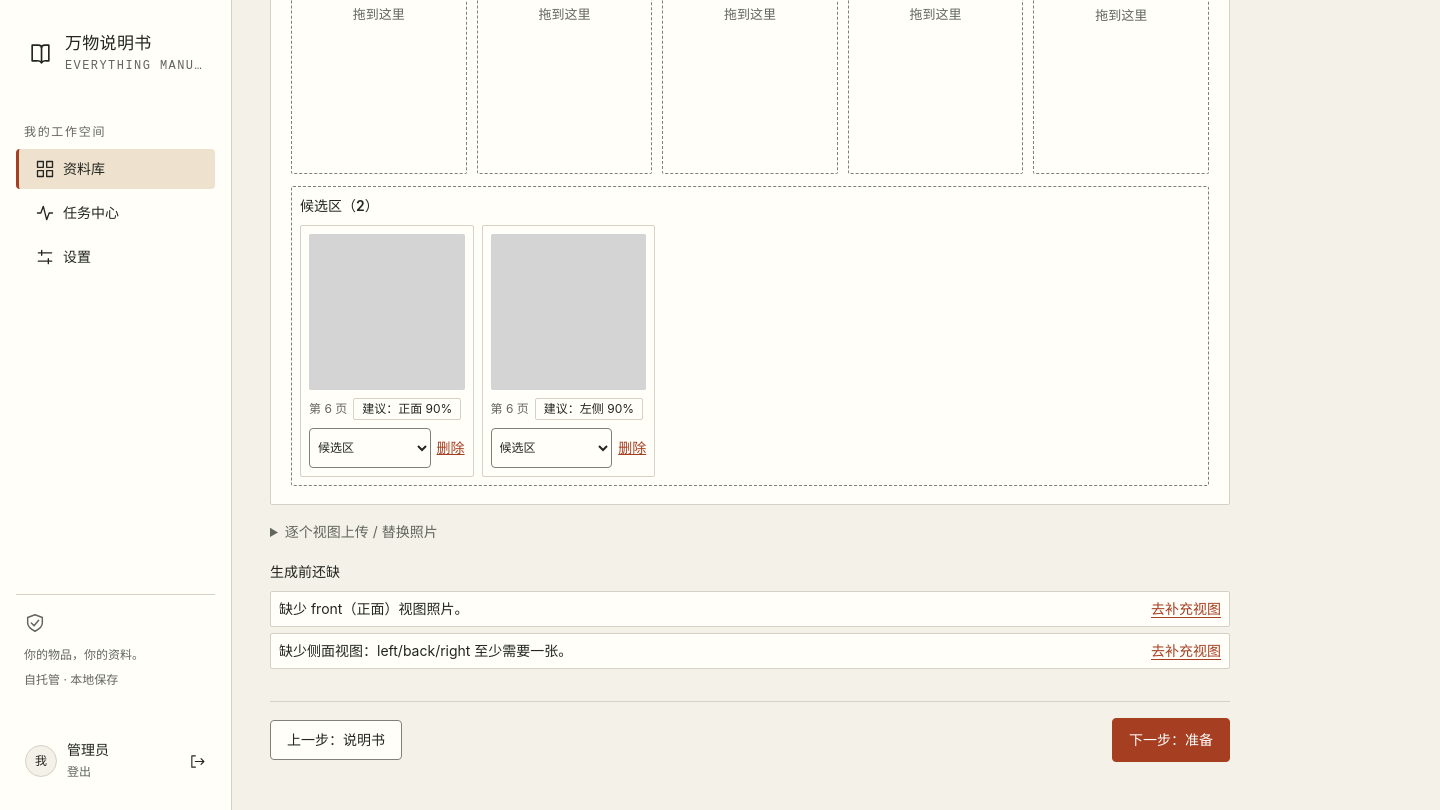
it: 视图排列页的缺项提示 › 把候选放进槽位后立即更新缺项提示（无需先保存），并提示尚未保存
(page scrolled)
Check: the element with test id "arrange-tray" is shown, box [291, 186, 1209, 486]
Check: the text "缺少 front（正面）视图照片。" is shown, box [279, 600, 468, 617]
键盘替代路径（与拖拽同一状态转换）：把 c1 放到正面、c2 放到左侧。
Select "正面" in the 1st dropdown named "把这张图放到". click: (370, 448)
box: [309, 428, 431, 468]
(page scrolled)
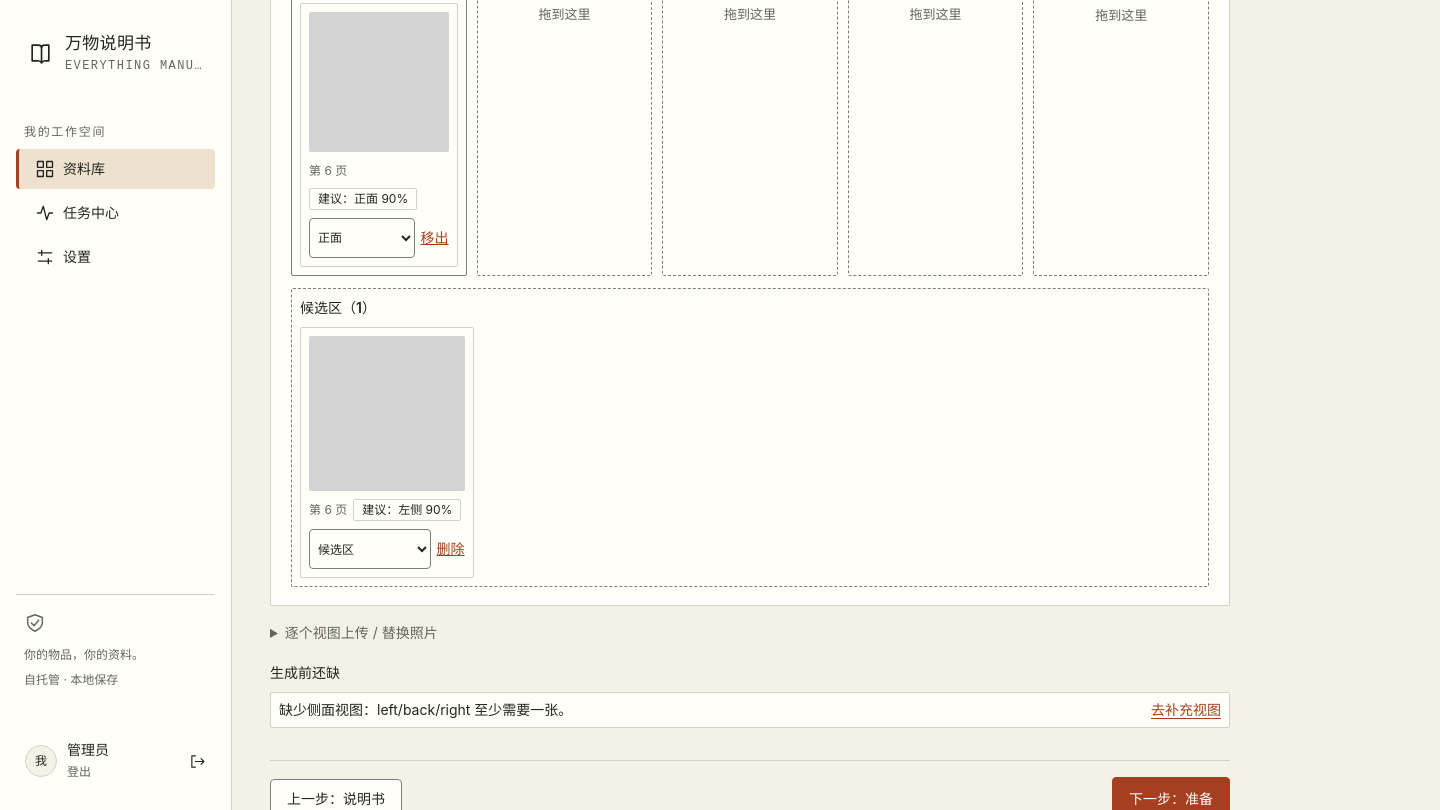
Select "左侧" in the dropdown named "把这张图放到" below "候选区（". click: (370, 549)
box: [309, 529, 431, 569]
(page scrolled)
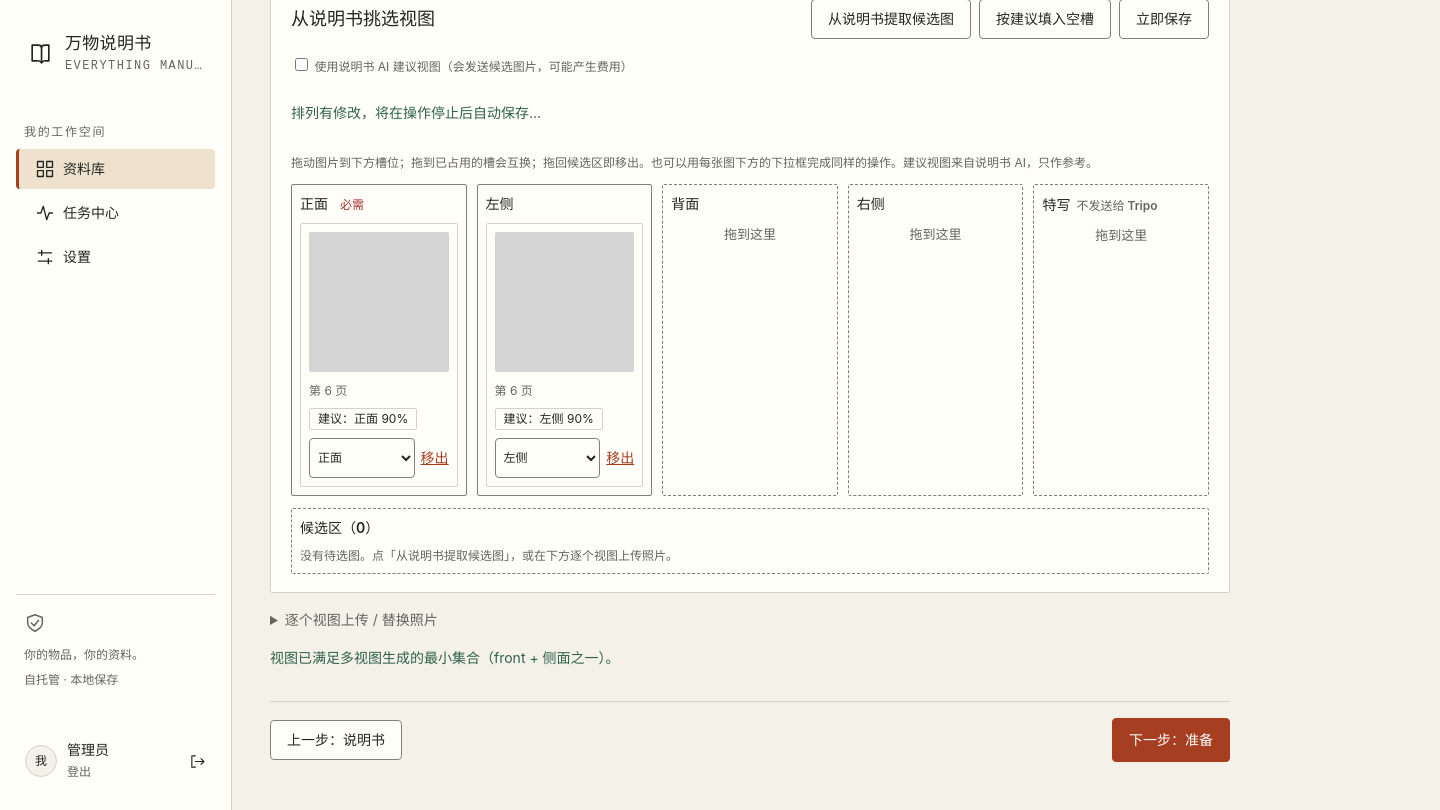
Check: the text "缺少 front（正面）视图照片。" is not shown
Check: the message with test id "arrangement-unsaved" shows "自动保存", box [291, 104, 541, 121]
Check: the text "缺少侧面视图" is gone
